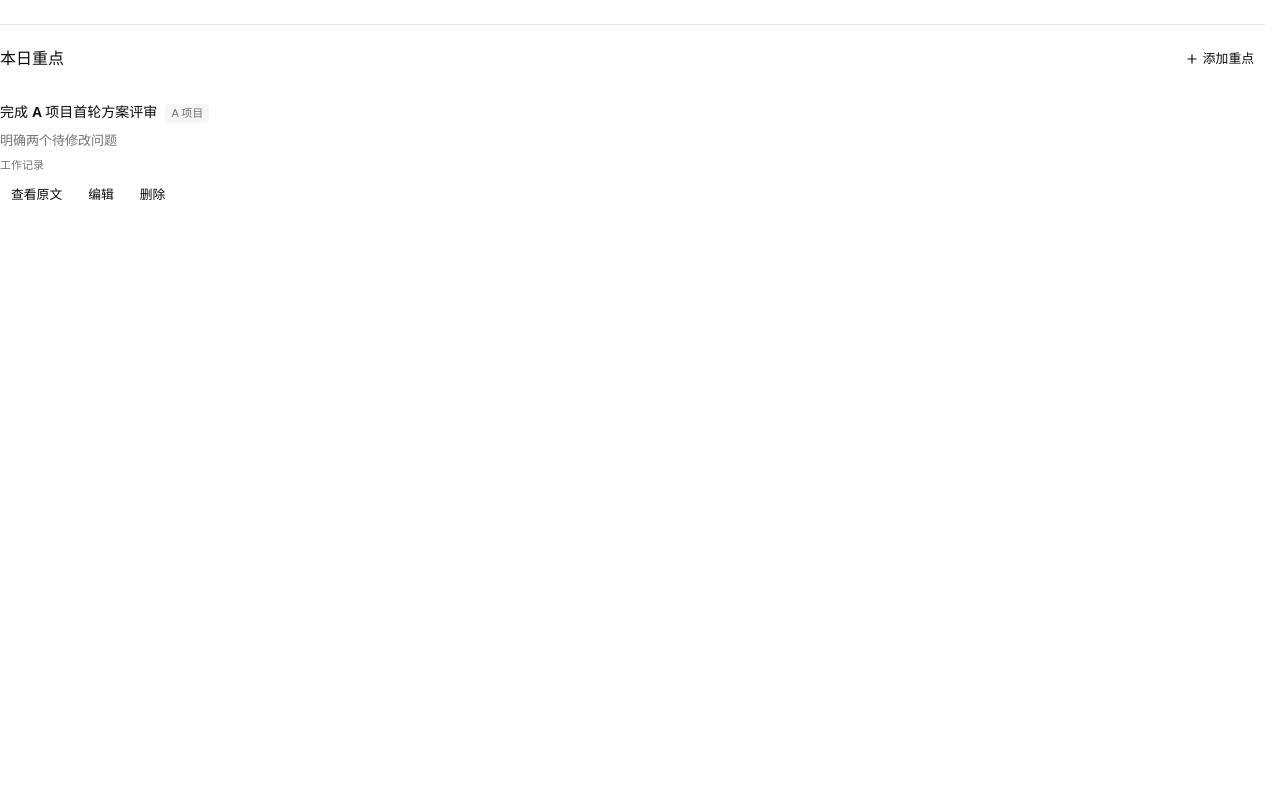
it: requires confirmation before removing a highlight
The image size is (1280, 800).
Later steps or results of the test are not shown.
Click the button with aria-label "删除重点：完成 A 项目首轮方案评审": [153, 194] box [129,180,176,208]
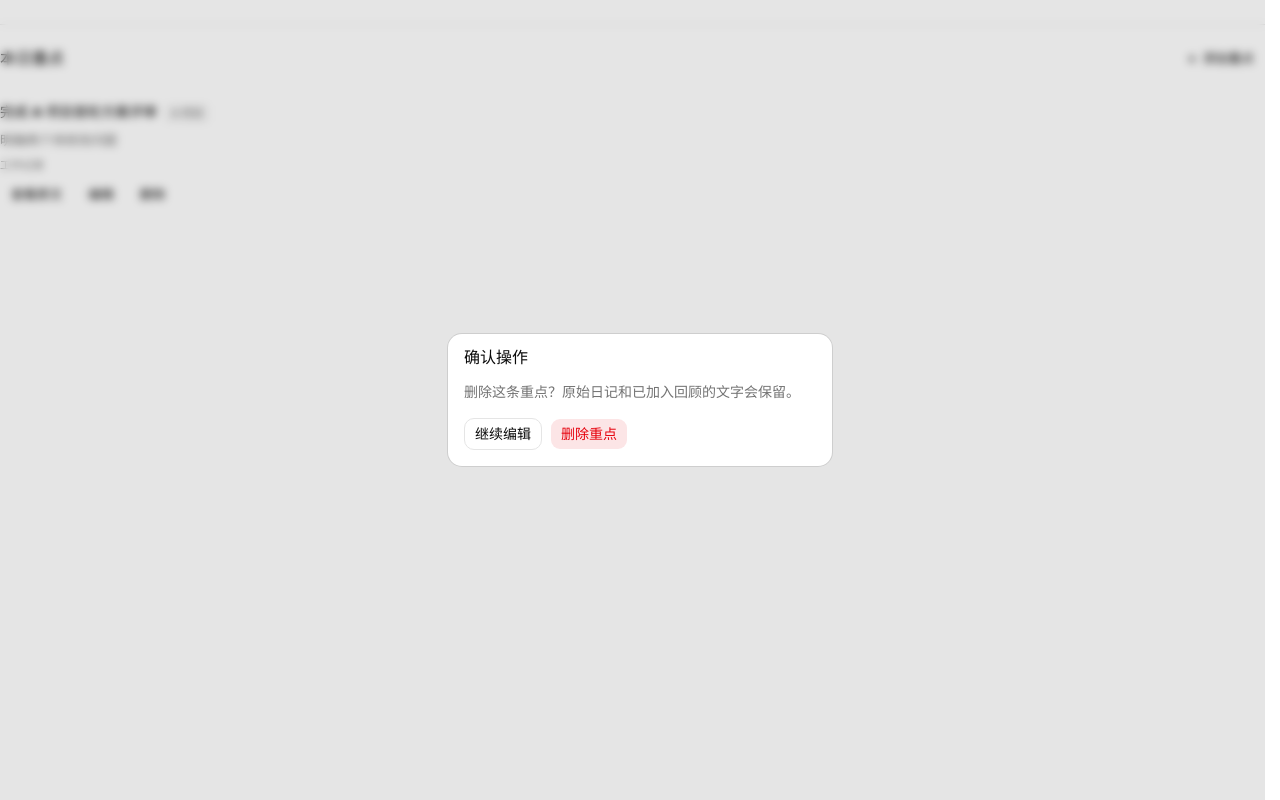
Check: the text "删除这条重点？原始日记和已加入回顾的文字会保留。" is shown, box [464,382,816,402]
